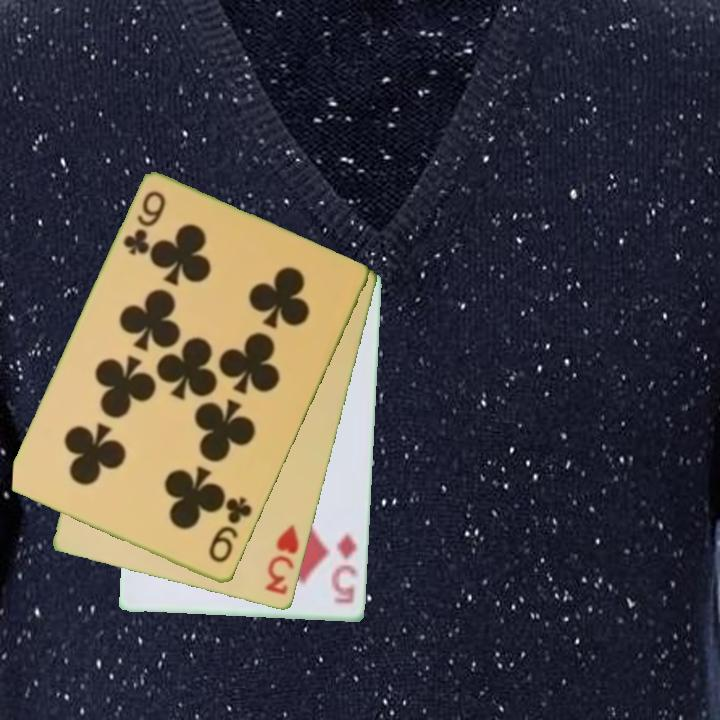3h: (262, 521, 302, 598)
5d: (329, 529, 360, 607)
9c: (205, 493, 255, 567), (119, 187, 169, 259)
